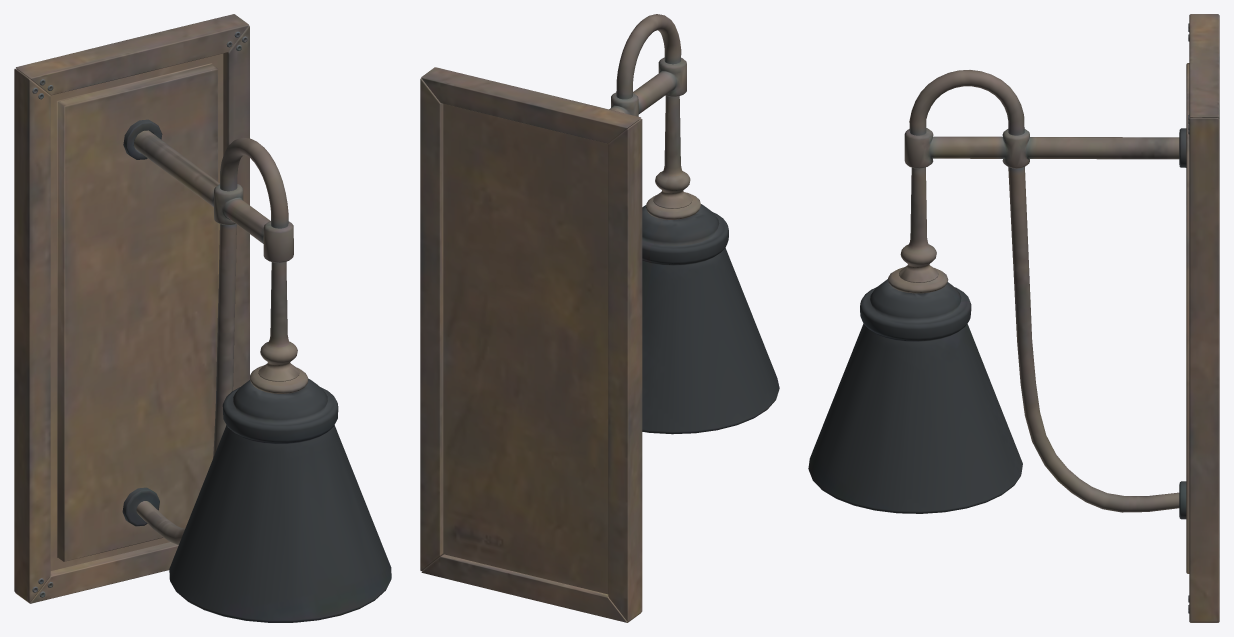
File: industrial_wall_sconce.a6f1cd07.glb
The picture shows the model from 3 angles, left to right: view 1: azimuth 30°, elevation 25°; view 2: azimuth 150°, elevation 25°; view 3: azimuth 270°, elevation 25°; orthographic projection. The views are drawn at different scales.
Visible parts, largest first — view 1: industrial_wall_sconce; view 2: industrial_wall_sconce; view 3: industrial_wall_sconce.
Part boxes in pixels (x1,y1,x2,y2): industrial_wall_sconce: (14,14,391,622); industrial_wall_sconce: (420,14,779,622); industrial_wall_sconce: (808,14,1219,622).
Bounding box in the file's own units: 0.4303 × 0.9782 × 0.72.
2 materials, 2 textured.
